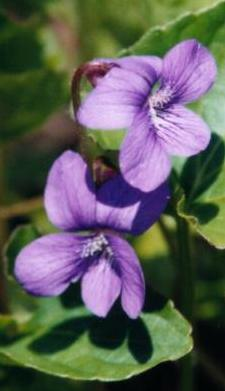violet: (33, 153, 169, 316), (79, 39, 218, 175)
